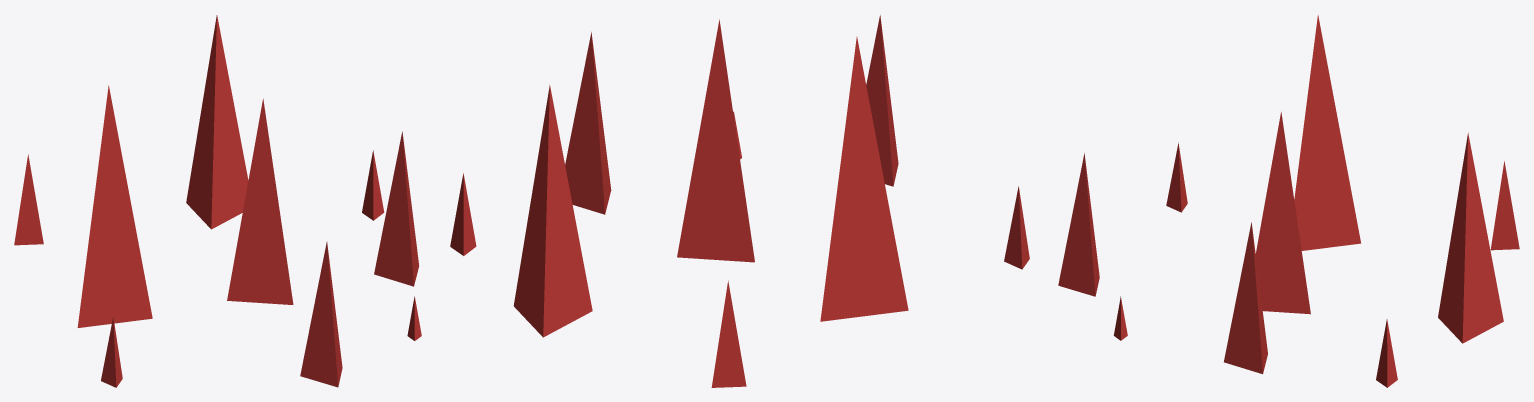
File: world_3_grass_1.dae
3 renders of one model, left to right at view 1: azimuth 30°, elevation 25°; view 2: azimuth 150°, elevation 25°; view 3: azimuth 270°, elevation 25°, orthographic. The views are drawn at different scales.
Parts seen in each view (by area): view 1: grass_1; view 2: grass_1; view 3: grass_1.
Boxes of the visible parts, x1,y1,x2,y2 form: grass_1: (14, 15, 421, 387); grass_1: (450, 15, 1029, 387); grass_1: (1058, 15, 1519, 387).
Size of the model in its own units: 0.3435 by 0.3635 by 0.1957.
